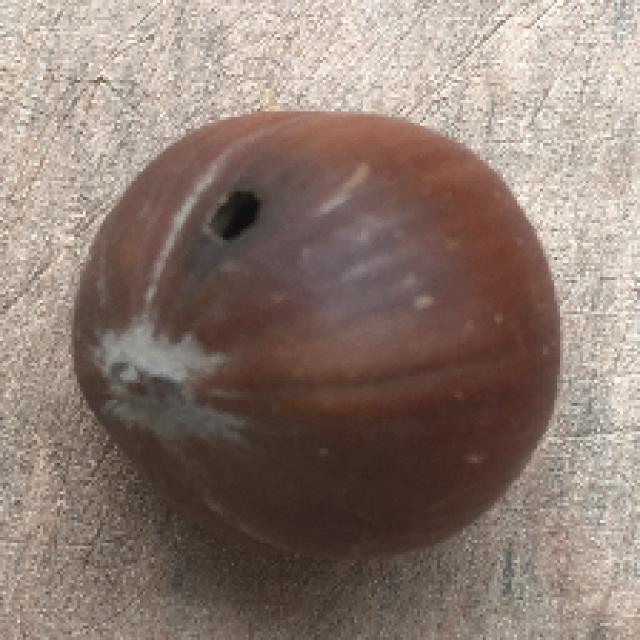damagedHazelnut: (63, 102, 566, 559)
